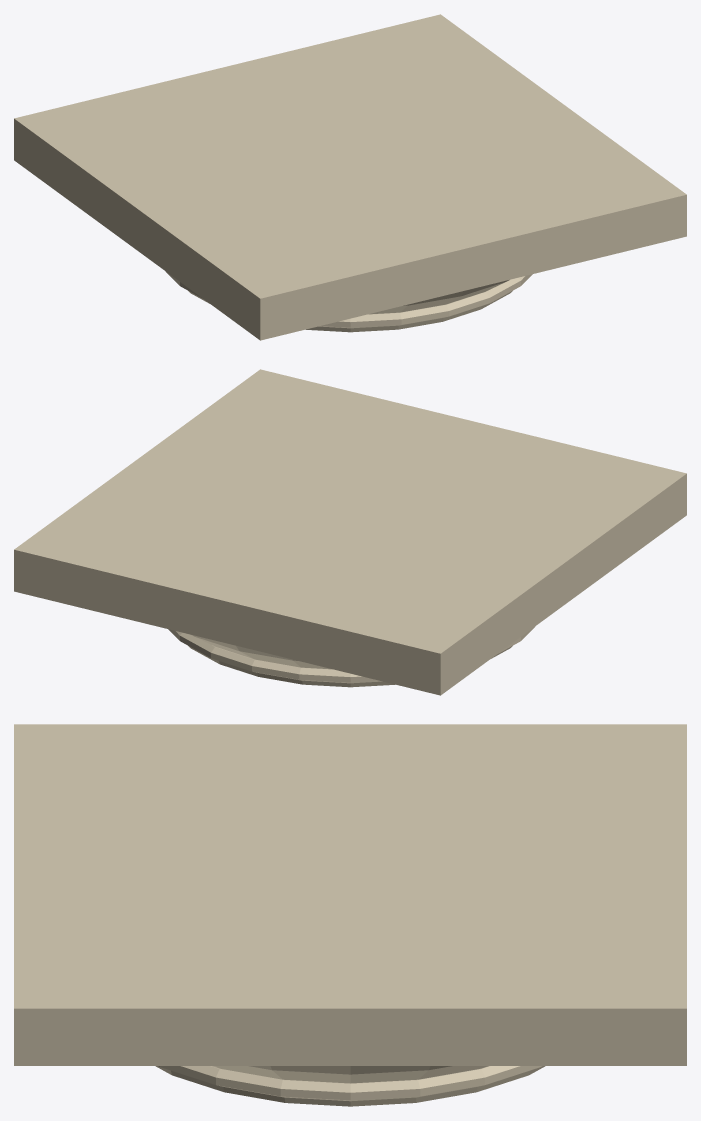
The model's file is waterfront-capital.lod0.glb.
3 renders of one model, top to bottom at view 1: azimuth 30°, elevation 25°; view 2: azimuth 150°, elevation 25°; view 3: azimuth 270°, elevation 25°, orthographic. The views are drawn at different scales.
Parts seen in each view (by area): view 1: waterfront-capital; view 2: waterfront-capital; view 3: waterfront-capital.
Part boxes in pixels (x1,y1,x2,y2): waterfront-capital: [14, 14, 686, 340]; waterfront-capital: [14, 369, 686, 695]; waterfront-capital: [14, 724, 686, 1106].
Size of the model in its own units: 1.6 by 0.35 by 1.6.
